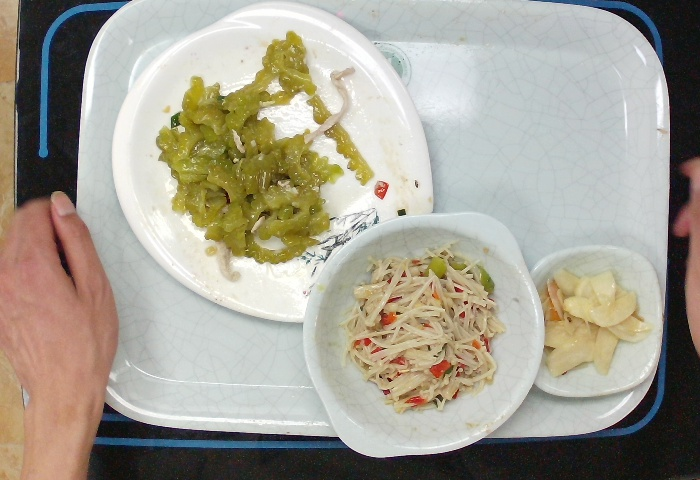JYsf-Mian_Pan: (108, 1, 436, 325)
JYsf-Shuang_Er_Wan: (301, 210, 546, 460)
JYsf-Si_Fang_Die: (527, 242, 664, 399)
